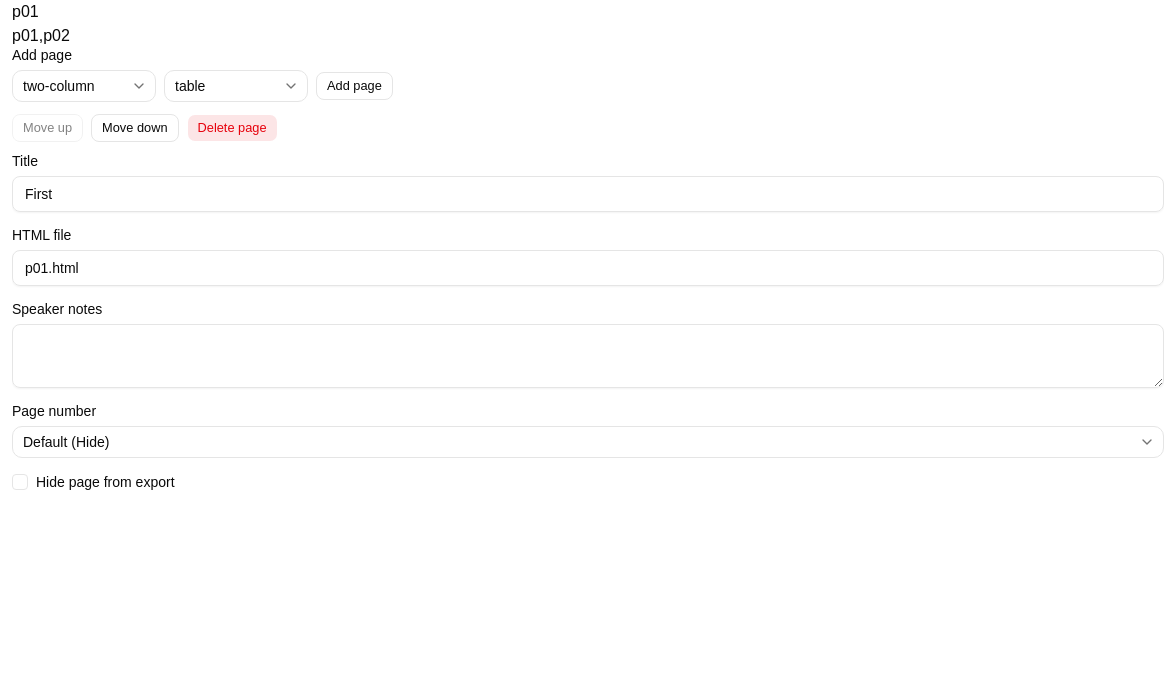
Test: workshop page lifecycle › adds an evidence-backed decision page and shows its editor
Step 1. Click the dropdown named "Add page" → (84, 86), box [12,70,156,102]
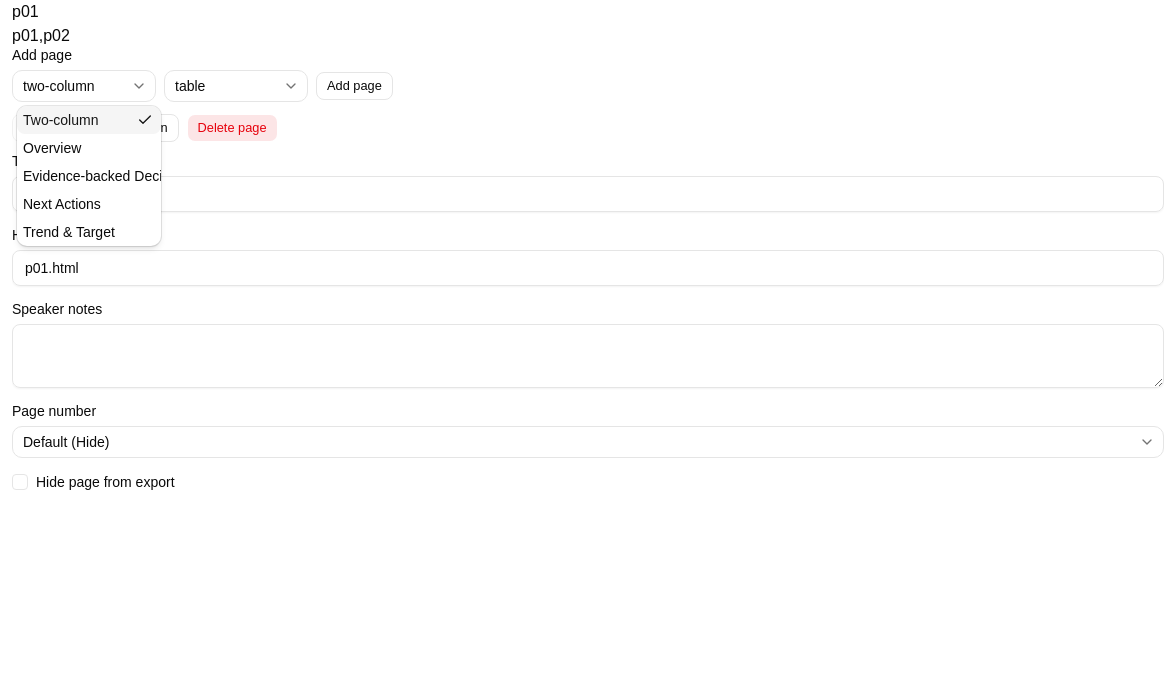
Step 2. Click the option "Evidence-backed Decision" → (106, 176), box [23,168,188,184]
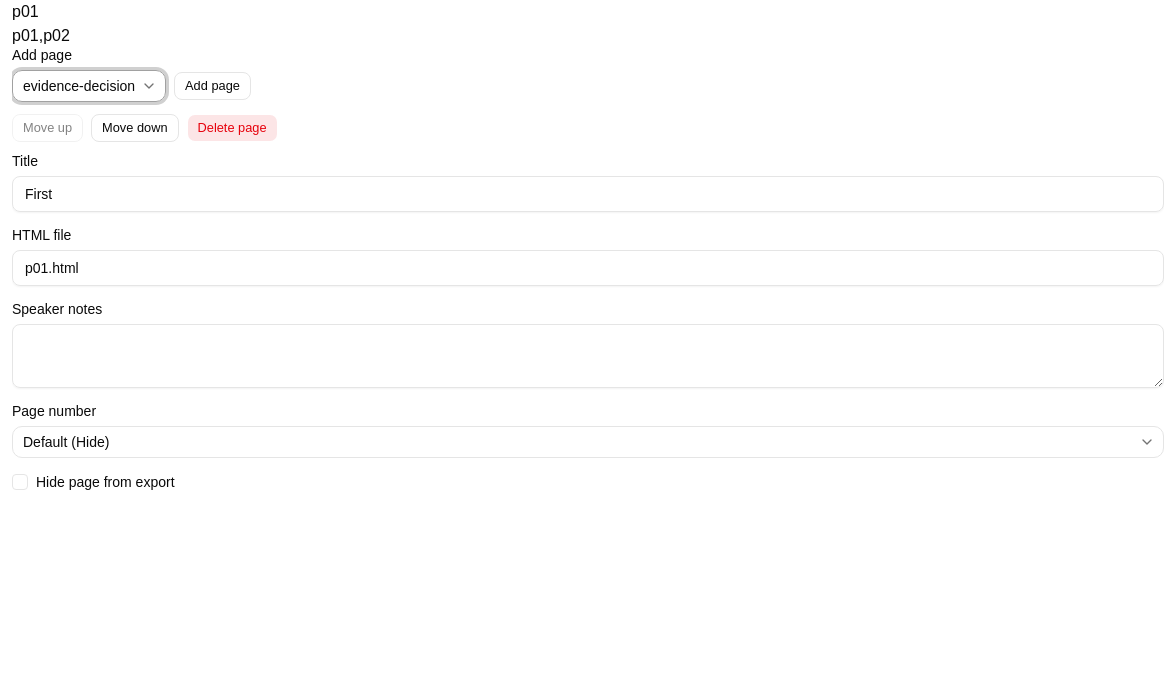
Step 3. Click the button "Add page" → (212, 86), box [174,72,251,100]
(page scrolled)
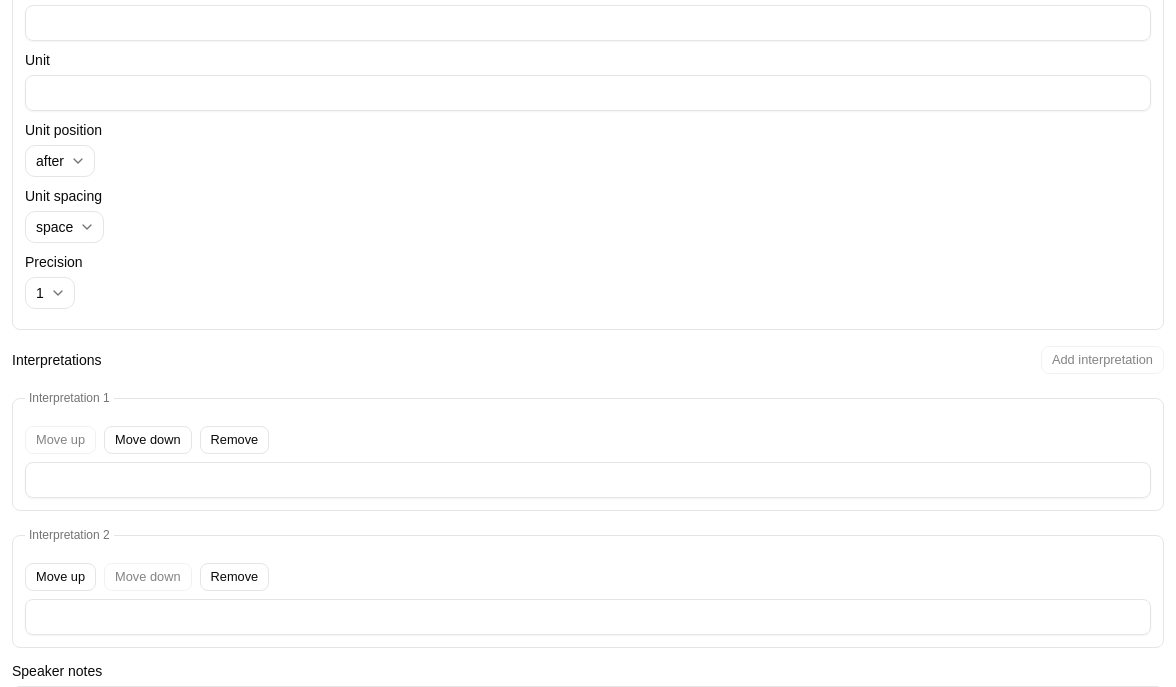
Now the button "Add interpretation" is shown, box [1041,346,1164,374]
